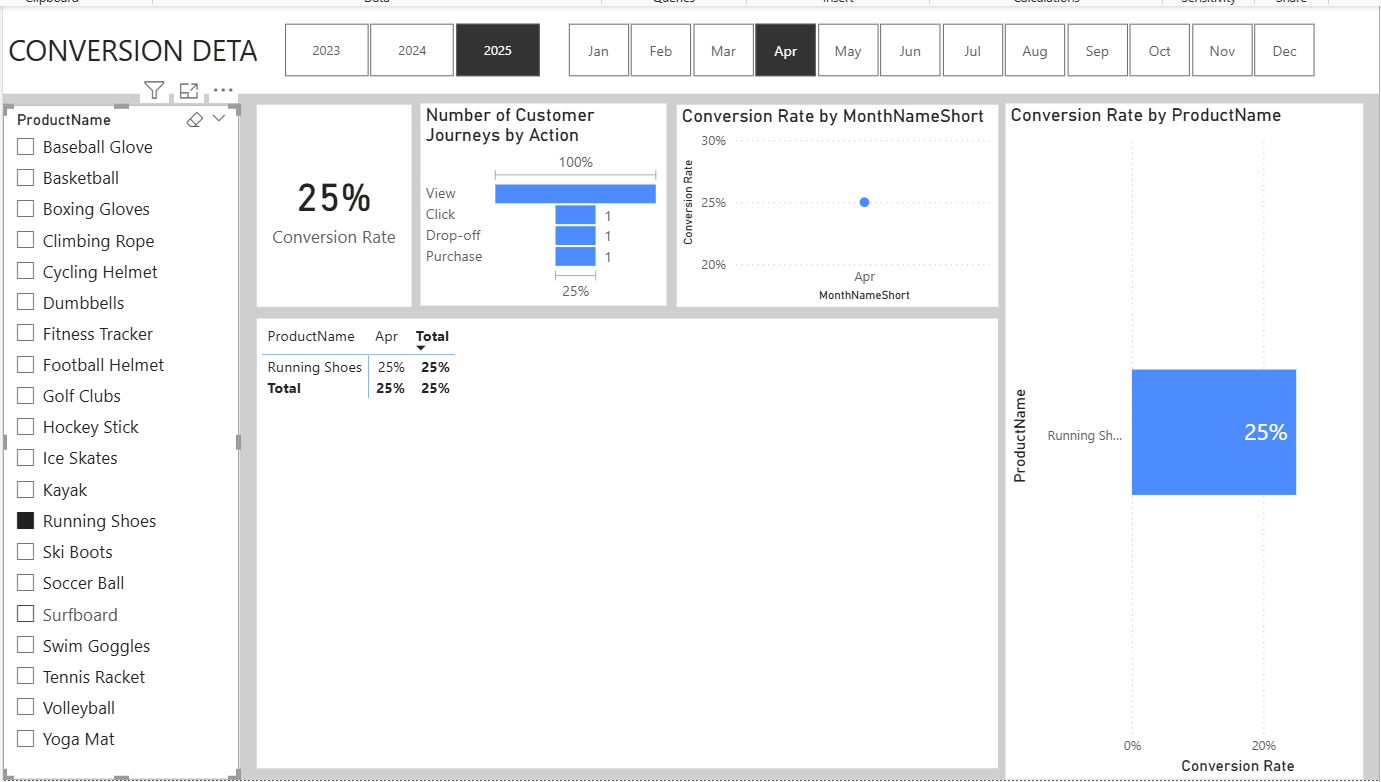

The dashboard page shown, as its layout file describes it:
{"tool":"powerbi","page":{"name":"Conversion Details","canvas":[1280,720],"ordinal":1},"visuals":[{"type":"textbox","box":[0,0,1280.2,81.9],"z":0},{"type":"slicer","fields":{"Values":["dim_products.ProductName"]},"box":[0,91.9,219.8,627.9],"z":1000},{"type":"card","fields":{"Values":["_Calculations.Conversion Rate"]},"box":[236,91.9,144.2,188.4],"z":2000},{"type":"slicer","fields":{"Values":["Calender.Year"]},"box":[236,9.3,287.2,62.8],"z":3000},{"type":"slicer","fields":{"Values":["Calender.MonthNameShort"]},"box":[500,9.3,744.2,62.8],"z":4000},{"type":"lineChart","fields":{"Y":["_Calculations.Conversion Rate"],"Category":["Calender.MonthNameShort"]},"box":[626.7,91.9,298.8,188.4],"z":5000},{"type":"clusteredBarChart","fields":{"Category":["dim_products.ProductName"],"Y":["_Calculations.Conversion Rate"]},"box":[932.6,90.7,332.6,629.1],"z":6000},{"type":"pivotTable","fields":{"Values":["_Calculations.Conversion Rate"],"Rows":["dim_products.ProductName"],"Columns":["Calender.MonthNameShort"]},"box":[236,290.7,689.5,418.6],"z":7000},{"type":"funnel","fields":{"Category":["fact_customer_journey.Action"],"Y":["_Calculations.Number of Customer Journeys"]},"box":[388.4,90.7,229.1,188.4],"z":8000}]}

Visuals, with their boxes on the page's 1280x720 design canvas (x1, y1, x2, y2). These are canvas units, not pixel positions in the 1381x782 screenshot, which may show the page scaled, cropped or inside an application window:
textbox: 0/0/1280/82
slicer - dim_products.ProductName: 0/92/220/720
card - _Calculations.Conversion Rate: 236/92/380/280
slicer - Calender.Year: 236/9/523/72
slicer - Calender.MonthNameShort: 500/9/1244/72
lineChart - _Calculations.Conversion Rate x Calender.MonthNameShort: 627/92/926/280
clusteredBarChart - dim_products.ProductName x _Calculations.Conversion Rate: 933/91/1265/720
pivotTable - _Calculations.Conversion Rate x dim_products.ProductName: 236/291/926/709
funnel - fact_customer_journey.Action x _Calculations.Number of Customer Journeys: 388/91/618/279
